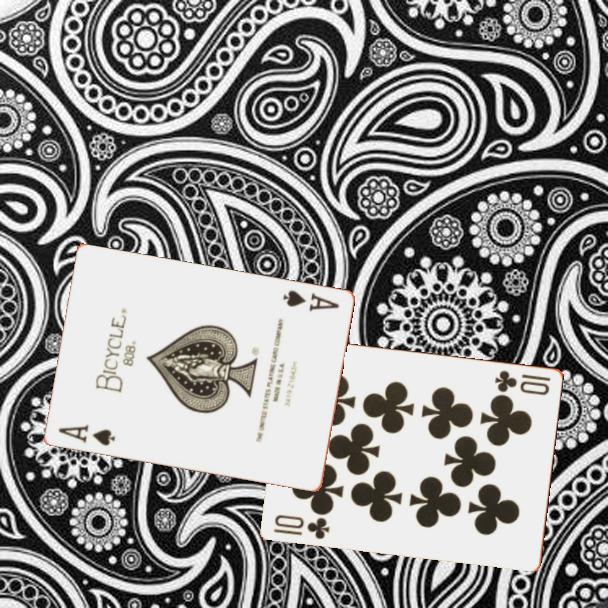c10: (492, 366, 554, 398), (271, 511, 333, 542)
s01: (54, 421, 118, 449), (279, 287, 342, 314)
